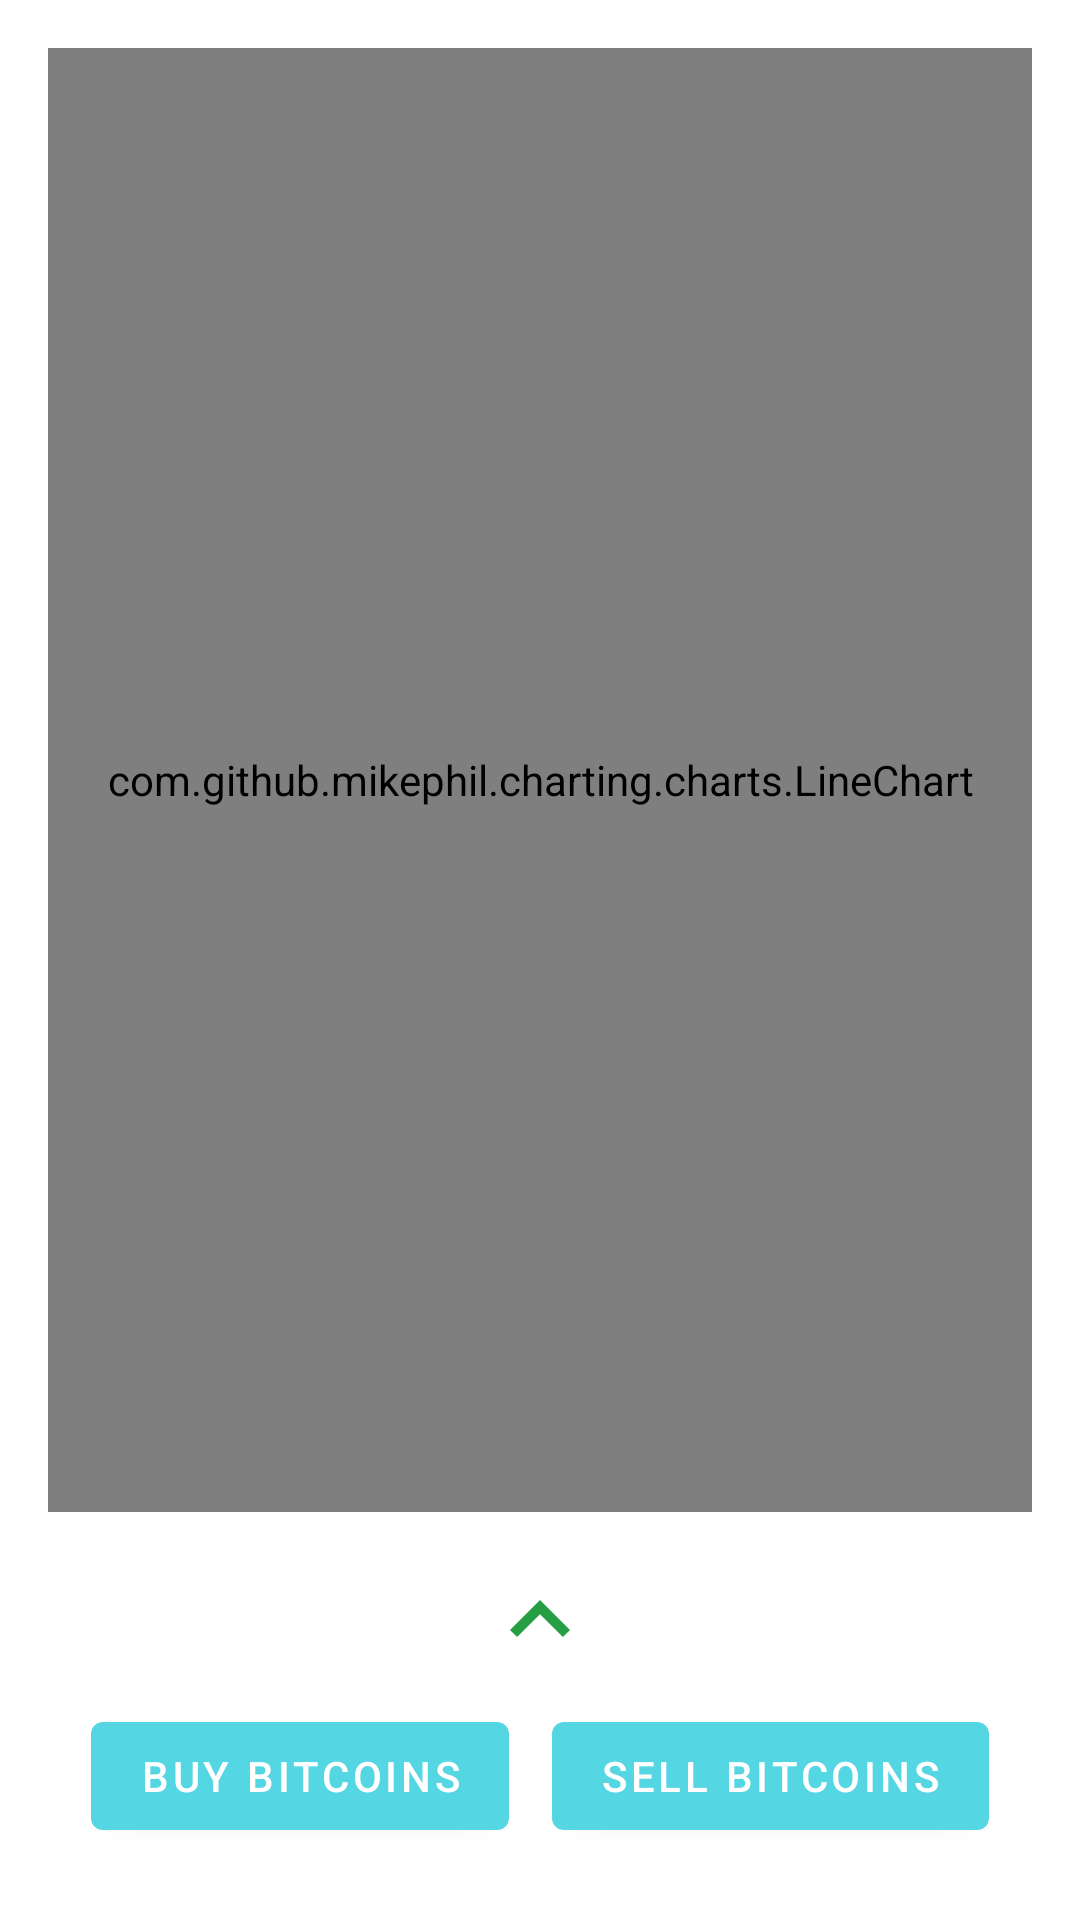

Named icons in this screenshot (1080x1920) and their bounding boxes, {"x1": x1, "y1": y1, "x2": x2, "y2": y2}:
arrow up: {"x1": 510, "y1": 1600, "x2": 570, "y2": 1637}
